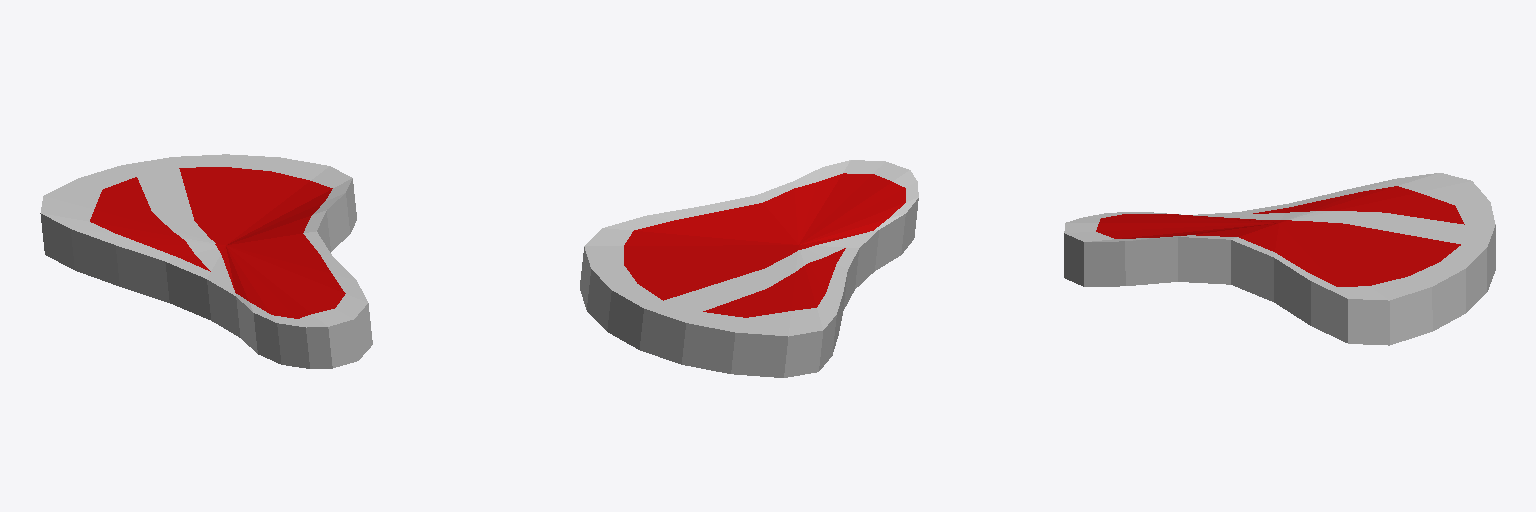
File: steak_Scene.obj
3 renders of one model, left to right at view 1: azimuth 30°, elevation 25°; view 2: azimuth 150°, elevation 25°; view 3: azimuth 270°, elevation 25°, orthographic.
Parts seen in each view (by area): view 1: Circle_Circle.001_Material.001, Circle.001_Circle.002_Material.002, Circle_Circle.001_Material.002; view 2: Circle_Circle.001_Material.001, Circle_Circle.001_Material.002, Circle.001_Circle.002_Material.002; view 3: Circle.001_Circle.002_Material.002, Circle_Circle.001_Material.001, Circle_Circle.001_Material.002.
Part boxes in pixels (x1,y1,x2,y2): Circle_Circle.001_Material.001: (90, 167, 345, 318); Circle.001_Circle.002_Material.002: (40, 179, 372, 368); Circle_Circle.001_Material.002: (41, 154, 367, 327); Circle_Circle.001_Material.001: (624, 173, 905, 317); Circle_Circle.001_Material.002: (584, 160, 918, 336); Circle.001_Circle.002_Material.002: (580, 198, 918, 377); Circle.001_Circle.002_Material.002: (1064, 225, 1495, 345); Circle_Circle.001_Material.001: (1096, 186, 1464, 286); Circle_Circle.001_Material.002: (1064, 173, 1495, 300).
Size of the model in its own units: 0.4258 by 0.1018 by 0.5874.